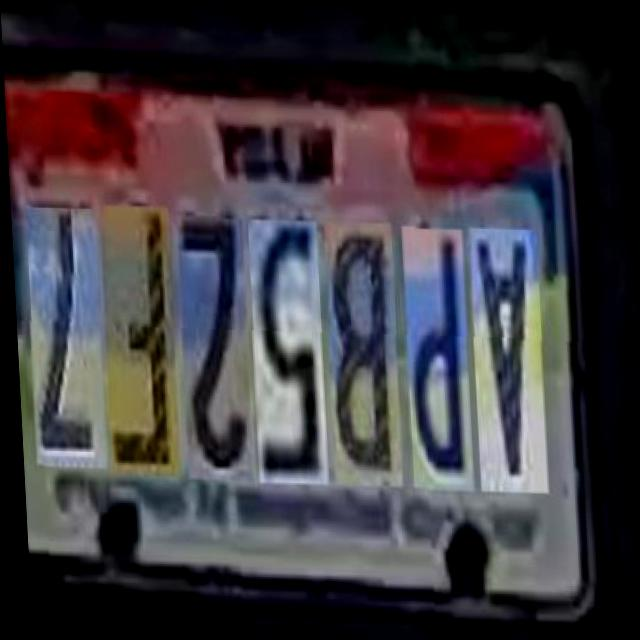2: (175, 218, 250, 483)
5: (245, 220, 325, 485)
7: (23, 210, 103, 472)
a: (466, 225, 545, 490)
b: (321, 222, 400, 487)
f: (98, 208, 177, 480)
p: (400, 225, 471, 490)
